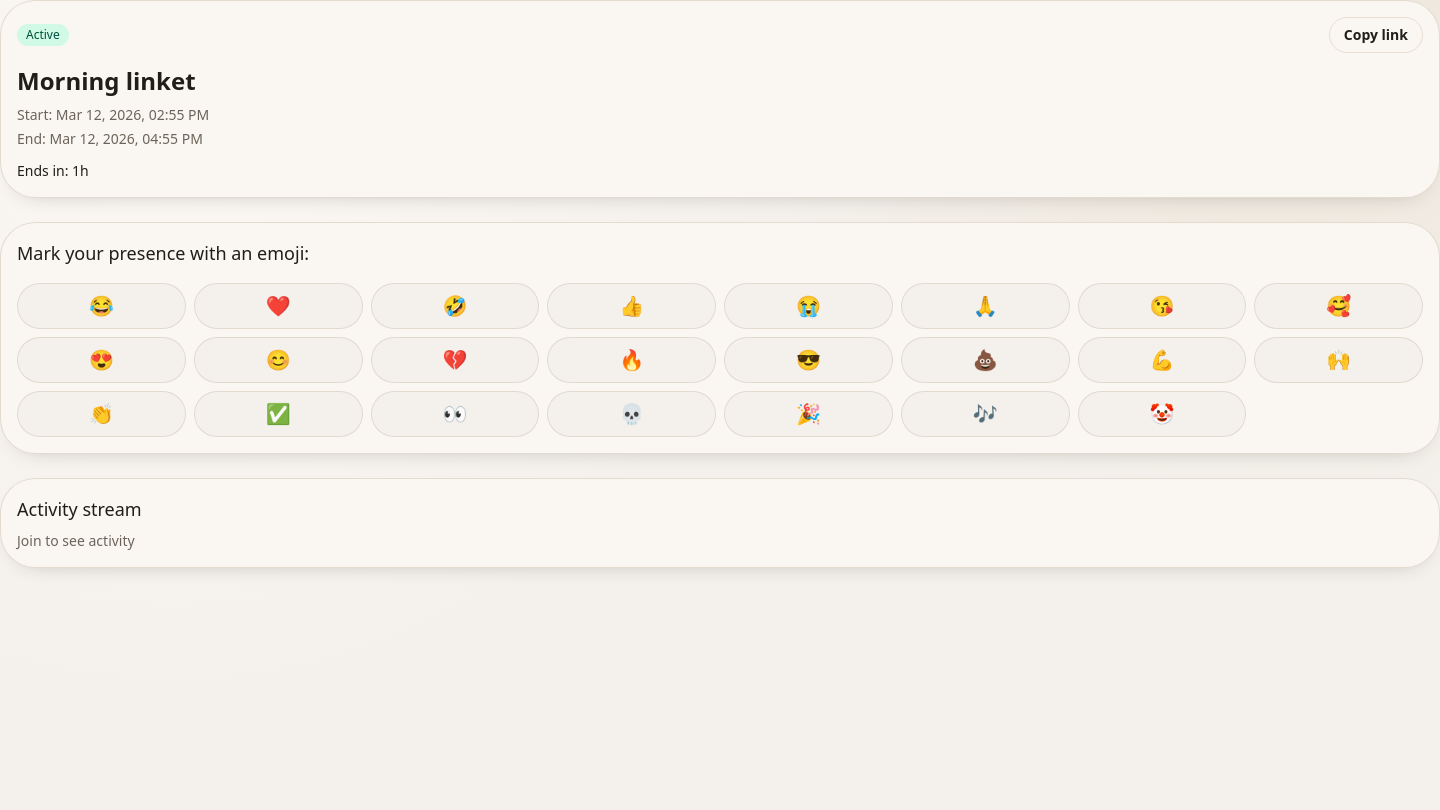
Scenario: SlotClient › shows action error when check-in fails
Click the button named "Join with 😂": (101, 306) x1=17 y1=283 x2=186 y2=329
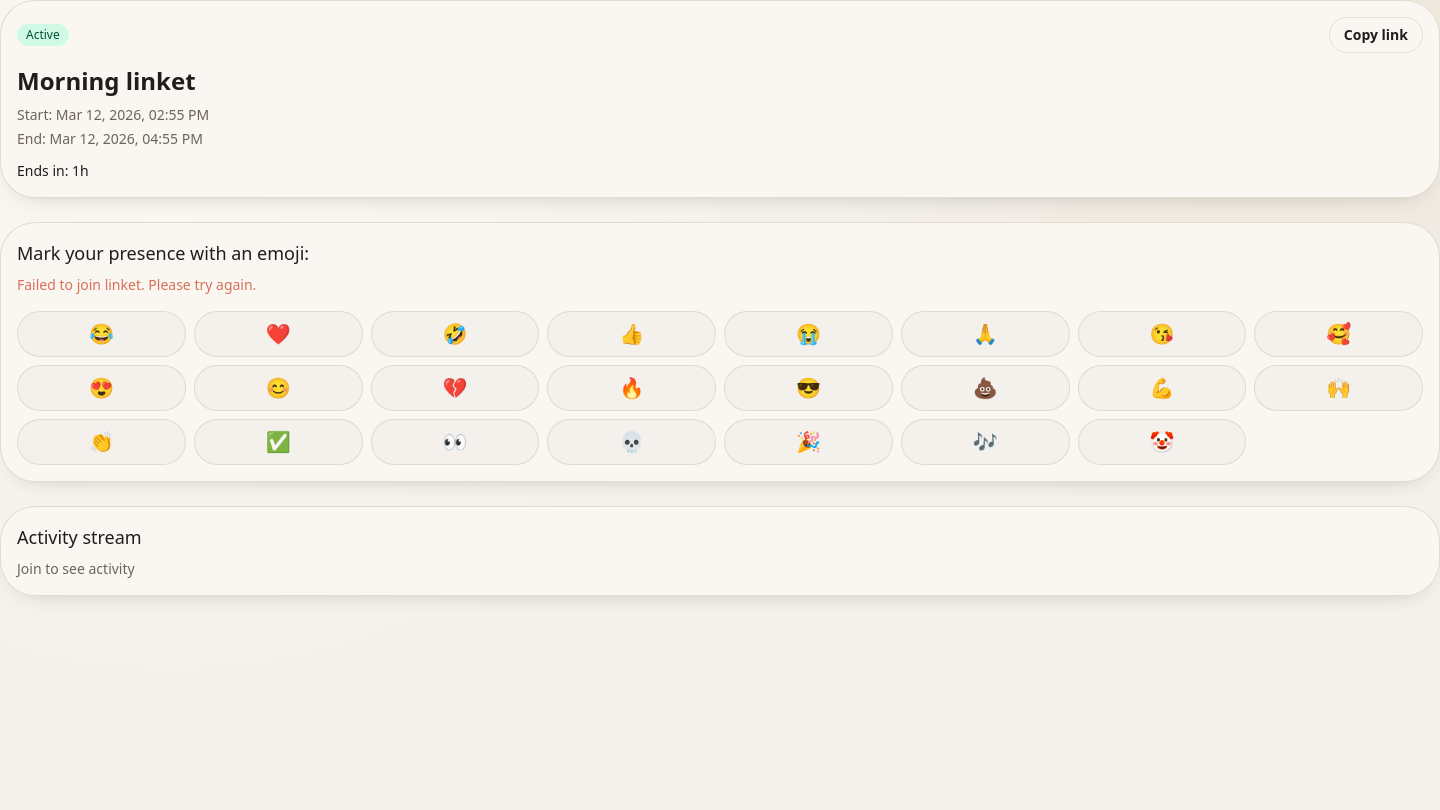
Now the text "Failed to join linket. Please try again." is shown, box x1=17 y1=275 x2=256 y2=294
